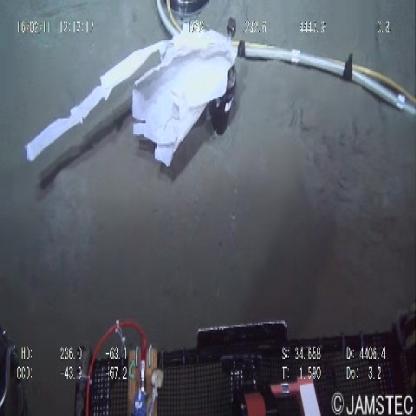Rov: (74, 305, 416, 414)
Rác: (23, 22, 241, 184)
